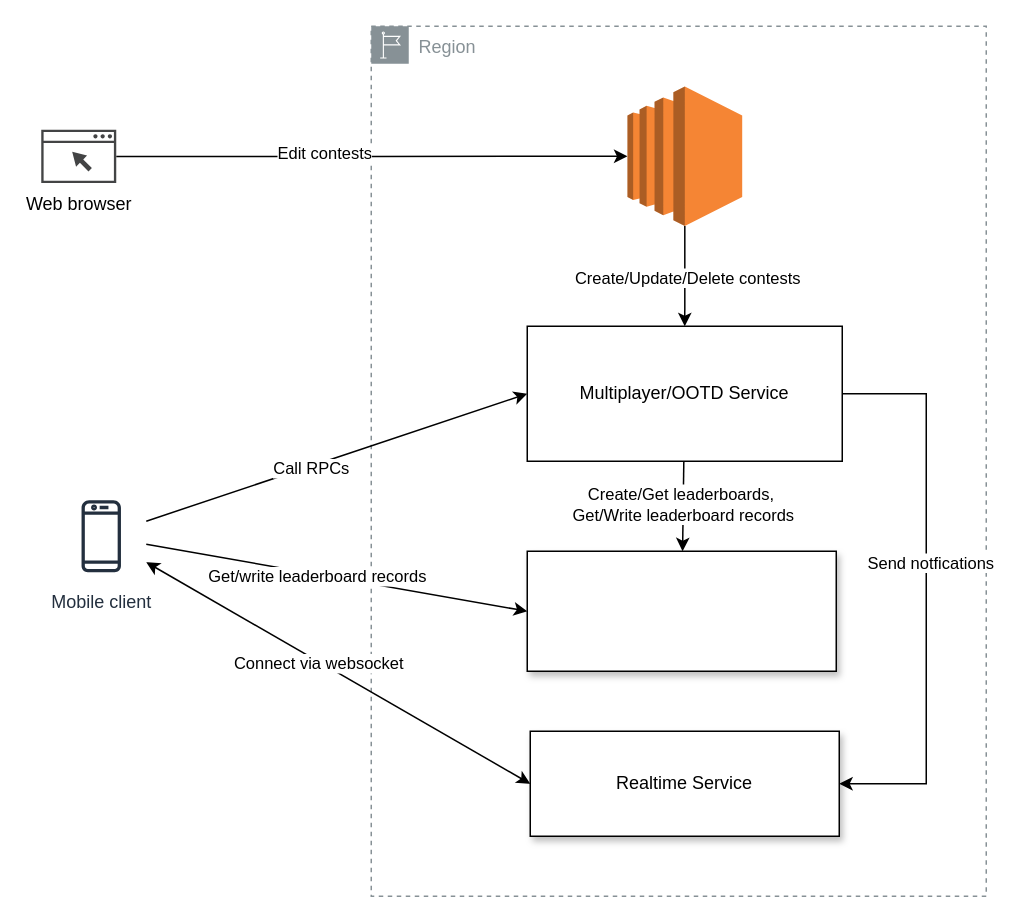
Some shapes in this 1019 by 923 pixel diagram are drawn without their labels. Each missing label, with the centre of its shape:
BE: point (684, 155)
Leaderboard Service: point (682, 613)
